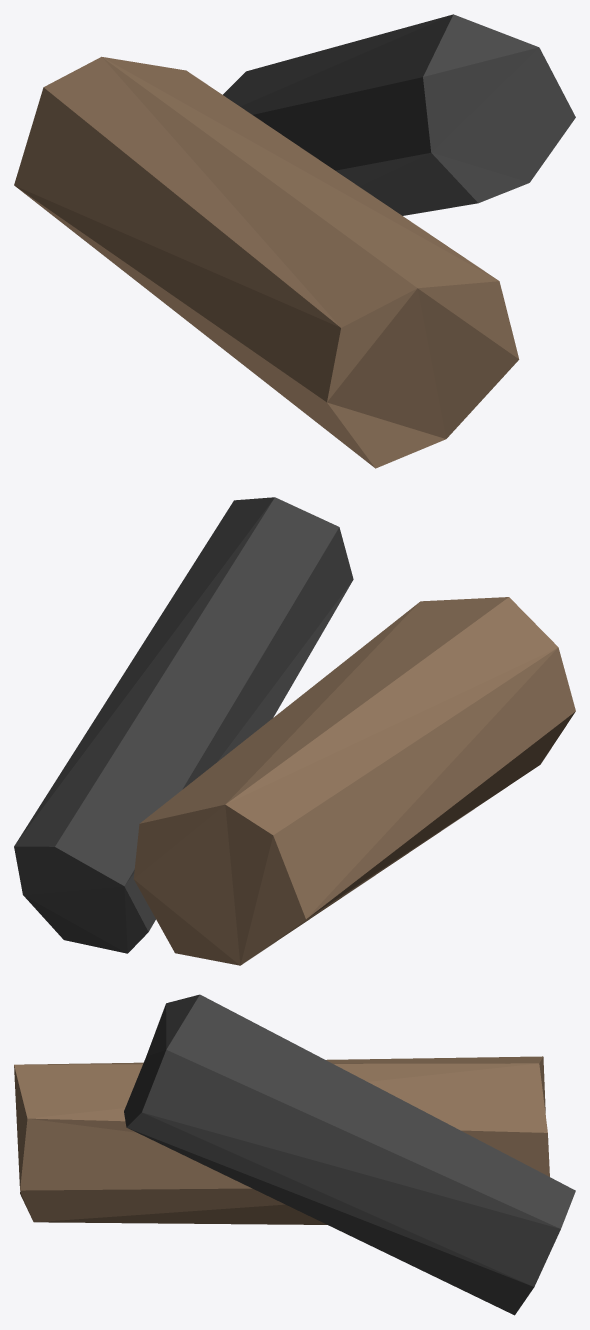
File: Hardwood.fbx
The picture shows the model from 3 angles, top to bottom: view 1: azimuth 30°, elevation 25°; view 2: azimuth 150°, elevation 25°; view 3: azimuth 270°, elevation 25°; orthographic projection. The views are drawn at different scales.
Visible parts, largest first — view 1: fam_wood_dark, fam_black; view 2: fam_wood_dark, fam_black; view 3: fam_black, fam_wood_dark.
Boxes of the visible parts, bbox=[...] form: fam_wood_dark: bbox=[14, 56, 519, 468]; fam_black: bbox=[223, 14, 575, 215]; fam_wood_dark: bbox=[133, 597, 575, 965]; fam_black: bbox=[14, 497, 353, 953]; fam_black: bbox=[124, 994, 575, 1315]; fam_wood_dark: bbox=[14, 1056, 549, 1224].
Size of the model in its own units: 1.04 by 1.12 by 1.88.
